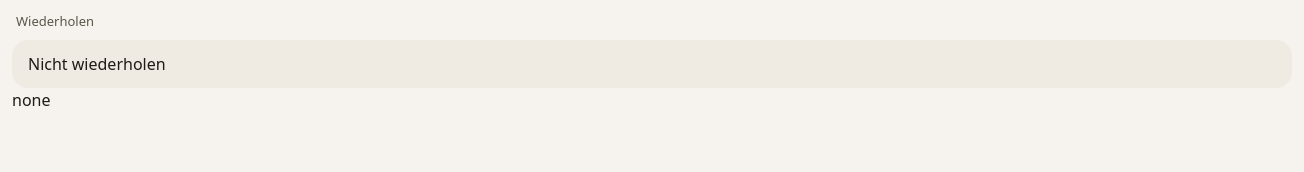
Scenario: with allowNone, "Nicht wiederholen" clears the rhythm
Select "Monatlich" in the dropdown labelled "Wiederholen" at (652, 64), box [12,40,1292,88]
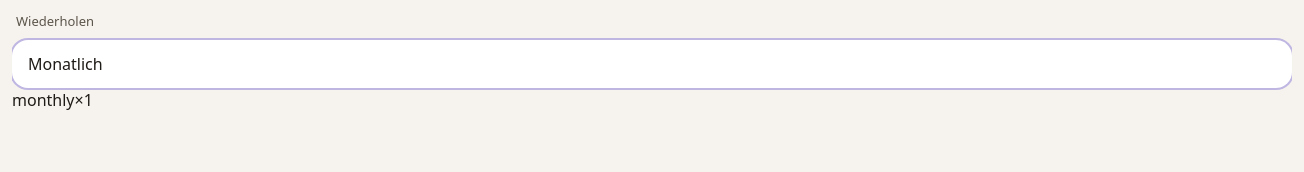
Expected: the text with test id "v" reads "monthly×1", [12,88,93,110]
Select "Nicht wiederholen" in the dropdown labelled "Wiederholen" at (652, 64), box [12,40,1292,88]
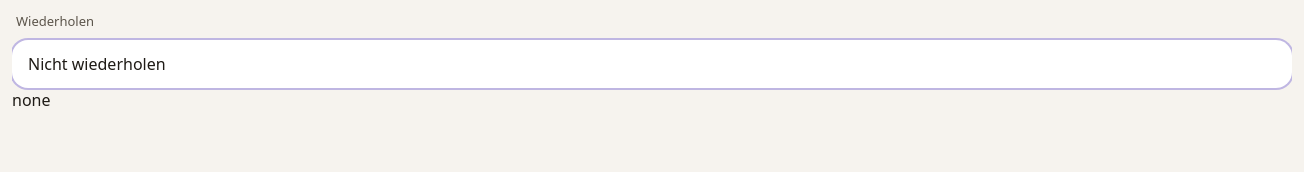
Expected: the text with test id "v" reads "none", [12,88,50,110]
